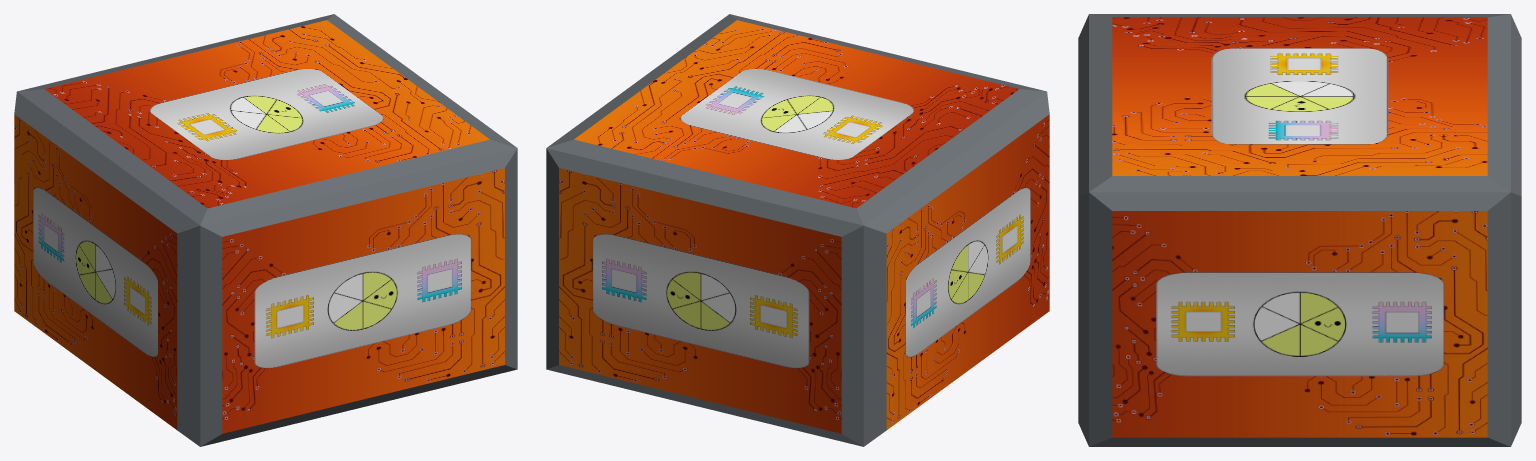
3 renders of one model, left to right at view 1: azimuth 30°, elevation 25°; view 2: azimuth 150°, elevation 25°; view 3: azimuth 270°, elevation 25°, orthographic. The views are drawn at different scales.
Parts seen in each view (by area): view 1: 4/6; view 2: 4/6; view 3: 4/6.
Boxes of the visible parts, x1,y1,x2,y2 form: 4/6: [14, 14, 517, 446]; 4/6: [546, 14, 1049, 446]; 4/6: [1078, 14, 1521, 446].
Size of the model in its own units: 213 by 140 by 210.
3 materials, 2 textured.
